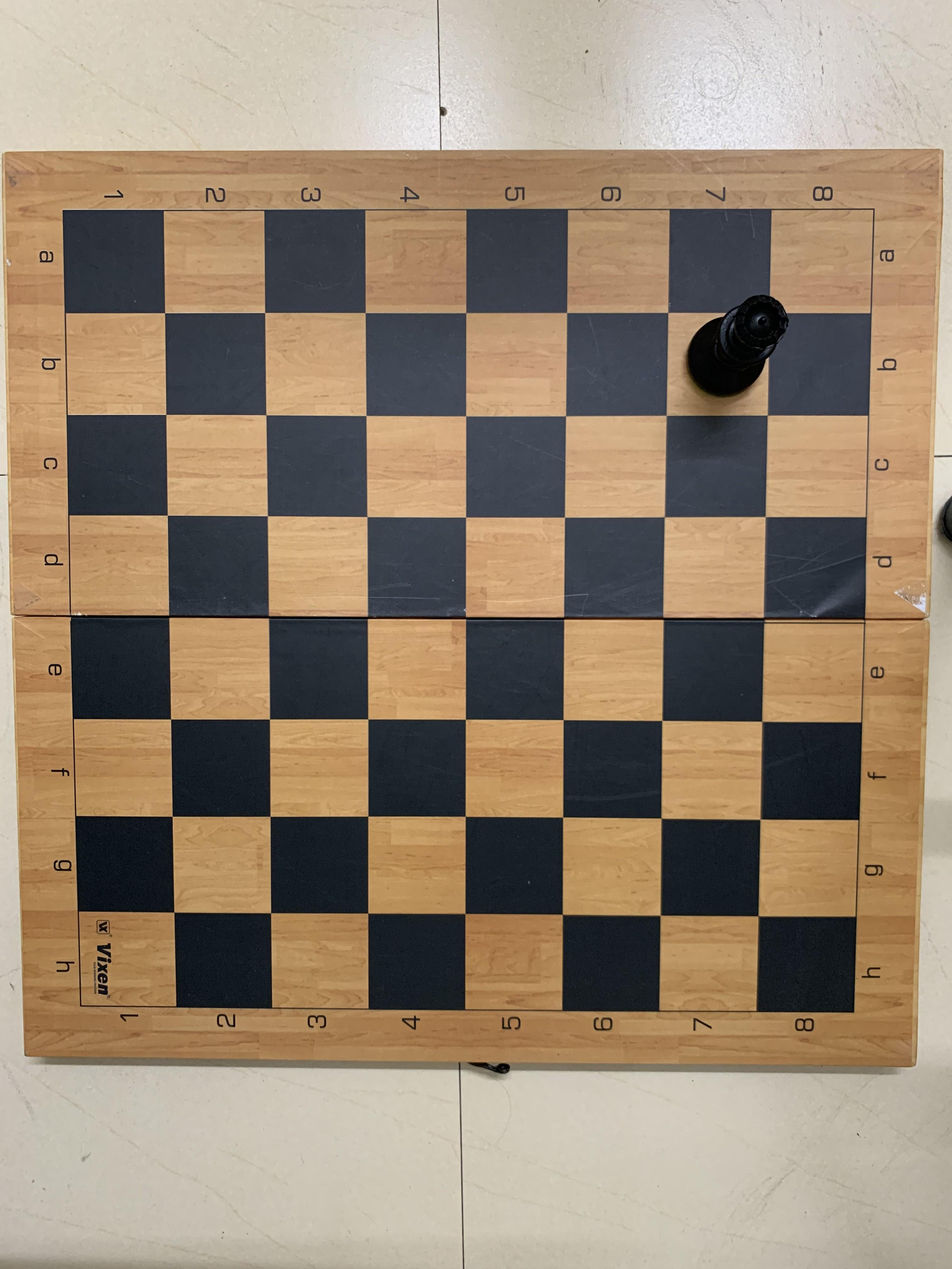black_queen: (663, 289, 791, 400)
